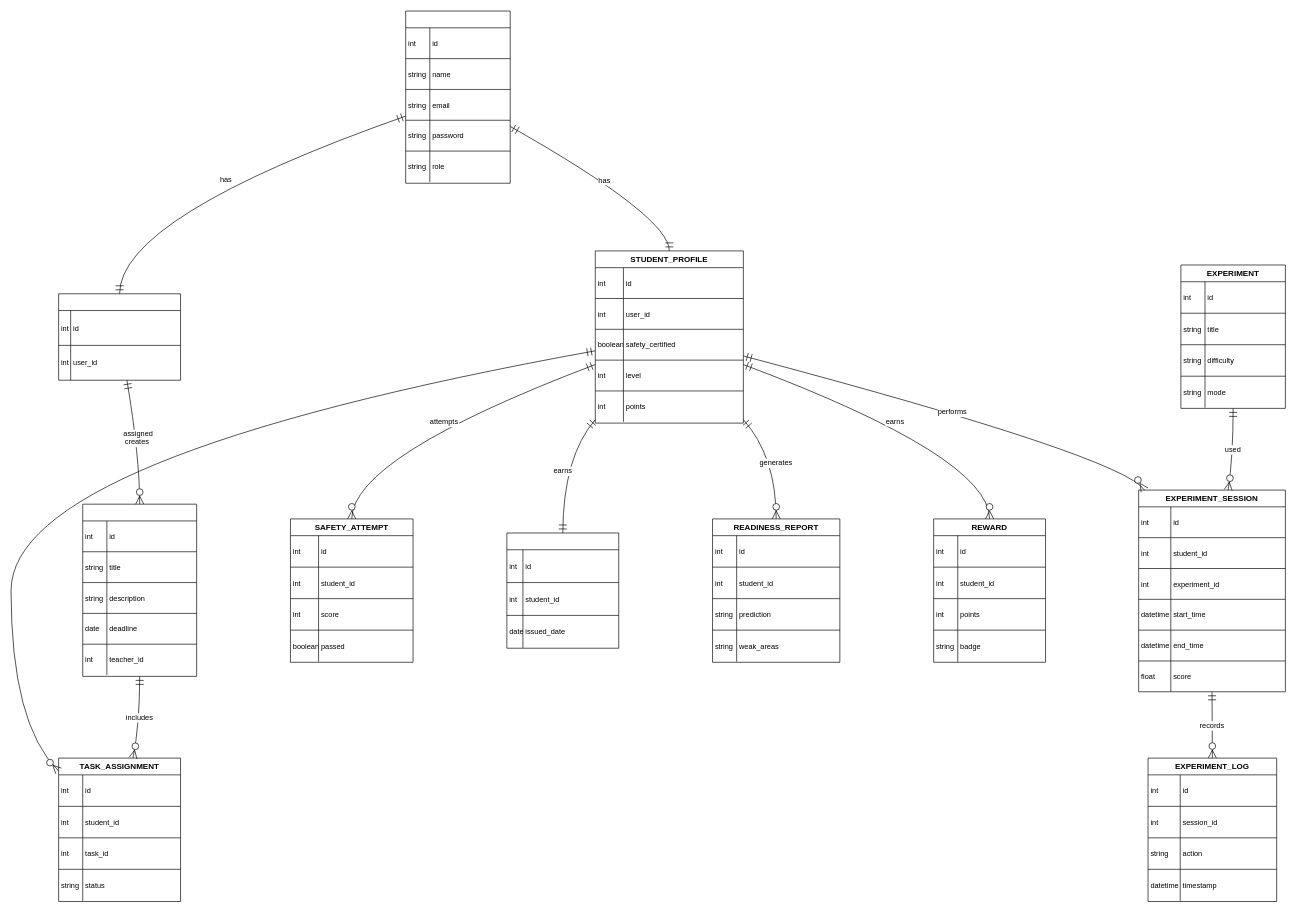
The diagram is 1296 pixels wide and 913 high, and some of its shapes have lost their labels. Each missing label, with the box of its shape:
CERTIFICATE: (506, 532, 619, 648)
TASK: (82, 504, 197, 676)
TEACHER_PROFILE: (58, 293, 181, 380)
USER: (405, 10, 510, 183)
